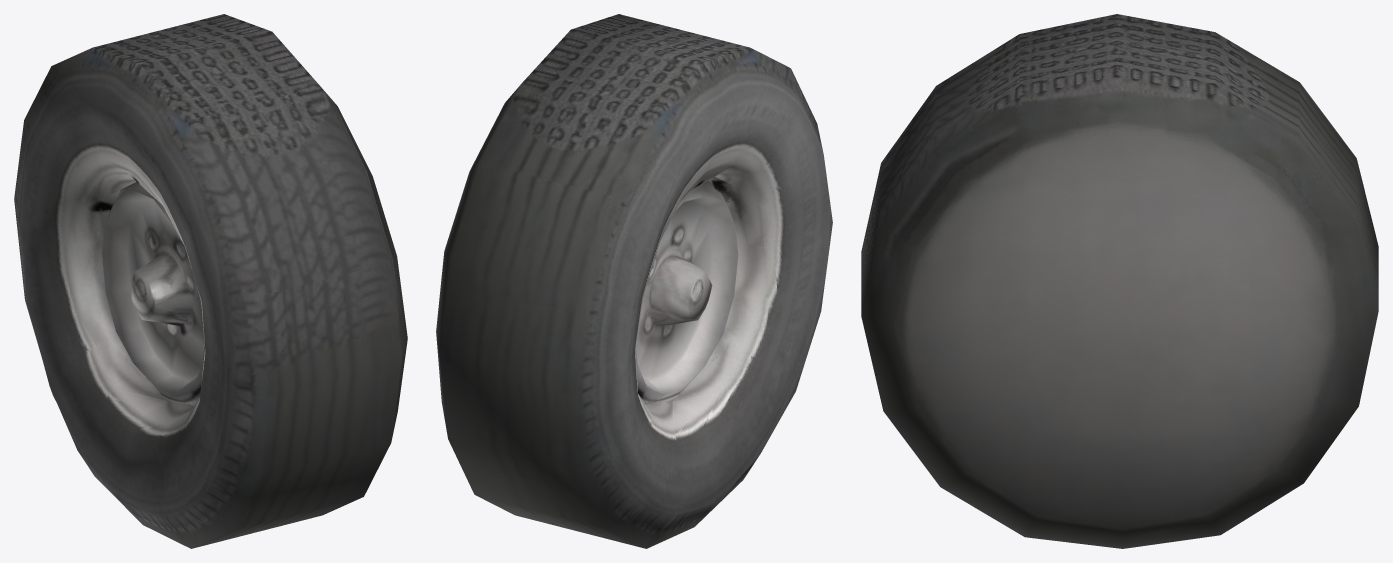
File: wheel.glb
3 renders of one model, left to right at view 1: azimuth 30°, elevation 25°; view 2: azimuth 150°, elevation 25°; view 3: azimuth 270°, elevation 25°, orthographic.
Parts seen in each view (by area): view 1: tripo_part_4; view 2: tripo_part_4; view 3: tripo_part_4.
Boxes of the visible parts, left/top/right/bottom form: tripo_part_4: left=14, top=14, right=407, bottom=548; tripo_part_4: left=436, top=14, right=832, bottom=548; tripo_part_4: left=861, top=14, right=1378, bottom=548.
Bounding box in the file's own units: 0.0601 × 0.1453 × 0.1448.
Materials: 1 (1 with a texture image).
